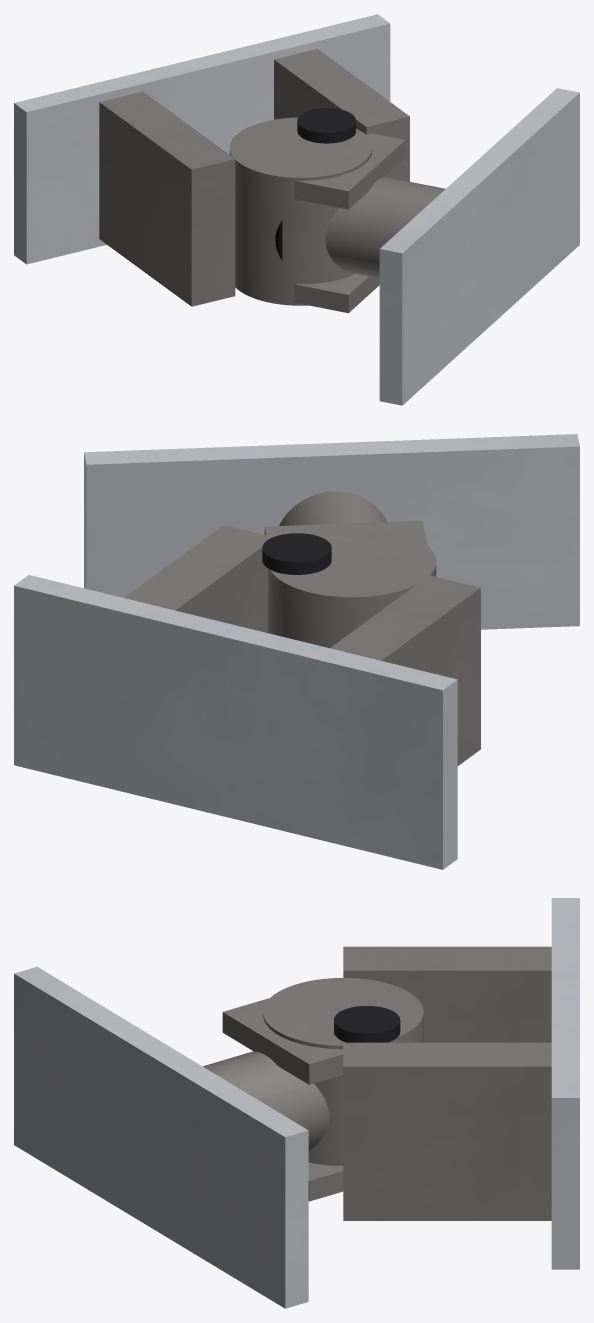
File: rover15_articulated_joint_s_steer_left.glb
3 views of the same model, one above another, from view 1: azimuth 30°, elevation 25°; view 2: azimuth 150°, elevation 25°; view 3: azimuth 270°, elevation 25° (orthographic). The views are drawn at different scales.
Visible parts, largest first — view 1: half_b_flange, yoke_rear, flange_rear, yaw_bearing, half_b_roll, half_b_clevis, yaw_drive; view 2: flange_rear, half_b_flange, yoke_rear, yaw_bearing, half_b_roll, yaw_drive, half_b_clevis; view 3: half_b_flange, yoke_rear, flange_rear, yaw_bearing, half_b_clevis, half_b_roll, yaw_drive.
Boxes of the visible parts, x1,y1,x2,y2 form: half_b_flange: [379, 88, 579, 405]; yoke_rear: [99, 49, 409, 306]; flange_rear: [14, 14, 390, 264]; yaw_bearing: [229, 117, 372, 305]; half_b_roll: [325, 177, 445, 278]; half_b_clevis: [294, 131, 405, 313]; yaw_drive: [297, 108, 355, 143]; flange_rear: [14, 575, 457, 869]; half_b_flange: [84, 434, 579, 629]; yoke_rear: [124, 525, 480, 765]; yaw_bearing: [268, 526, 436, 648]; half_b_roll: [279, 491, 387, 525]; yaw_drive: [262, 533, 331, 574]; half_b_clevis: [264, 520, 427, 545]; half_b_flange: [14, 966, 308, 1308]; yoke_rear: [343, 946, 551, 1220]; flange_rear: [551, 898, 579, 1269]; yaw_bearing: [263, 978, 423, 1165]; half_b_clevis: [222, 998, 343, 1201]; half_b_roll: [203, 1051, 329, 1150]; yaw_drive: [334, 1006, 400, 1042].
Size of the model in its own units: 0.5982 by 0.2 by 0.5982.
Materials: 4 (2 with a texture image).
